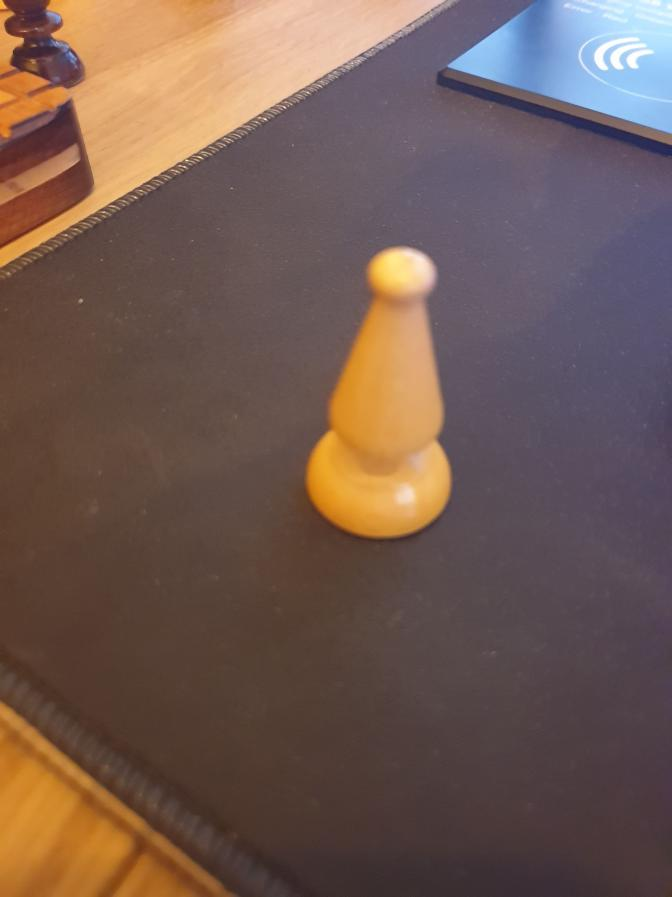wbishop: (304, 249, 453, 544)
